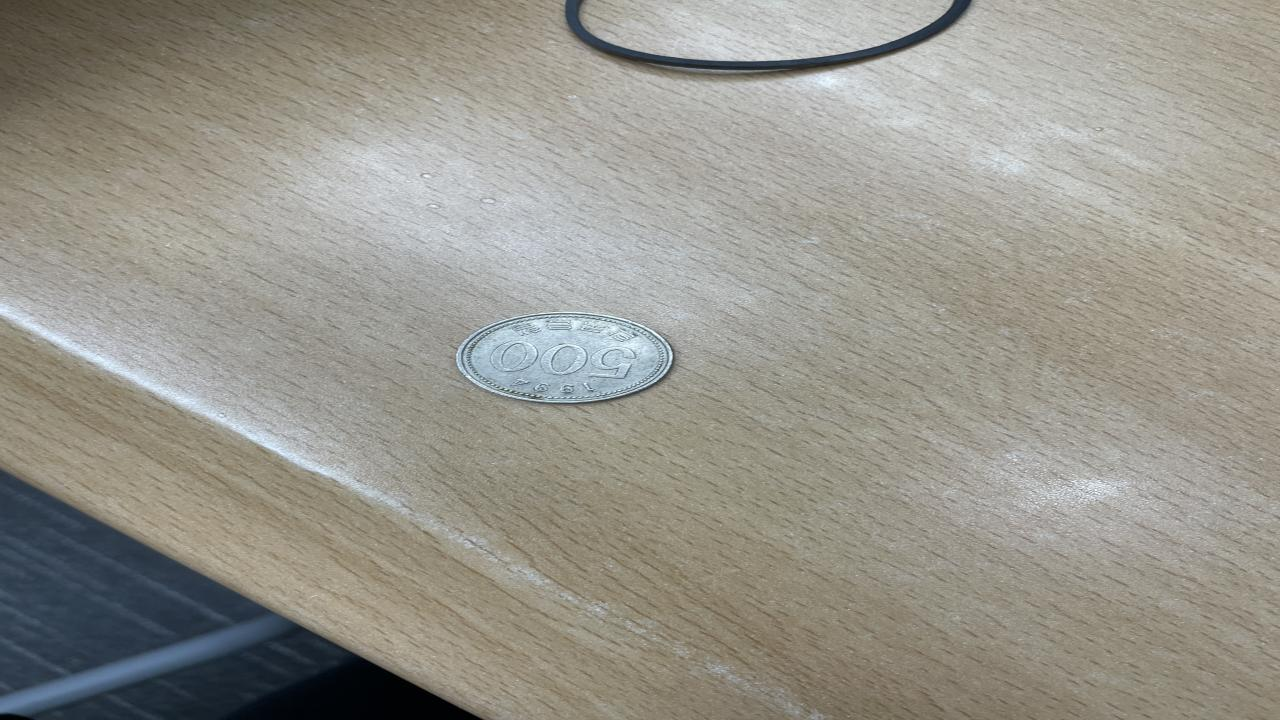coin: (452, 311, 674, 404)
